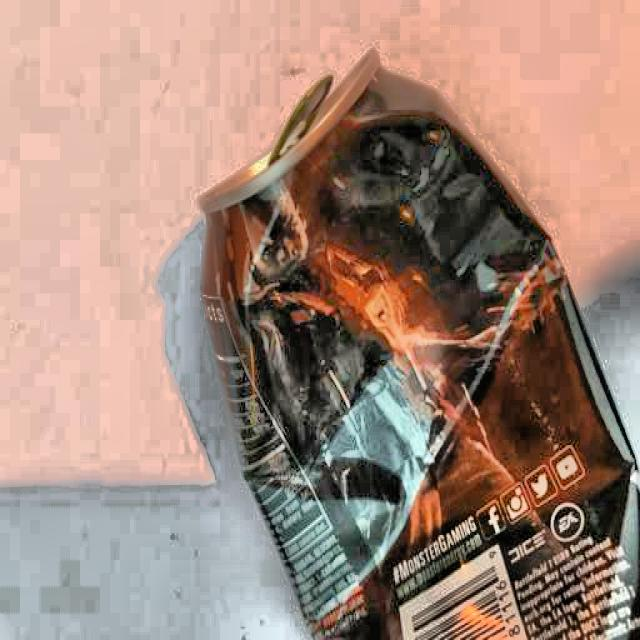metal: (195, 48, 640, 640)
